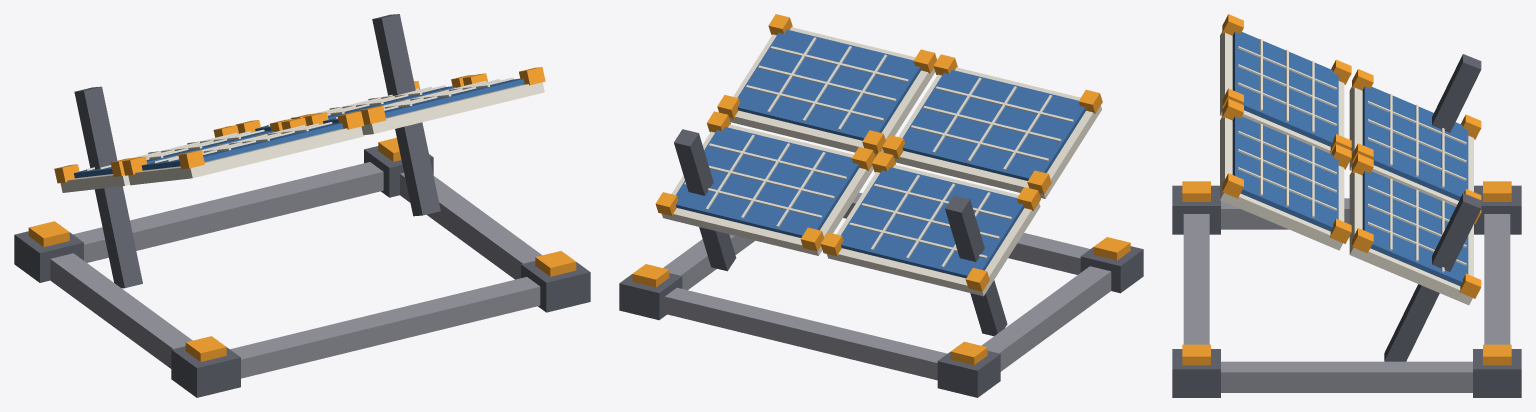
File: model_solar_panel.glb
The picture shows the model from 3 angles, left to right: view 1: azimuth 30°, elevation 25°; view 2: azimuth 150°, elevation 25°; view 3: azimuth 270°, elevation 25°; orthographic projection. The views are drawn at different scales.
Parts seen in each view (by area): view 1: base_cross_front, base_cross_back, base_rail_left, support_left, support_right, base_rail_right, panel_back_1_0, foot_-1.35_1.05, panel_back_1_1, foot_1.35_1.05, foot_-1.35_-1.05, panel_cells_1_0 (+7 smaller); view 2: panel_cells_1_0, panel_cells_1_1, panel_cells_0_1, panel_cells_0_0, base_cross_back, base_rail_left, panel_back_0_0, panel_back_1_0, panel_back_1_1, panel_back_0_1, support_left, support_right (+16 smaller); view 3: base_rail_right, panel_cells_1_1, panel_cells_1_0, panel_cells_0_0, panel_cells_0_1, support_right, base_cross_front, base_cross_back, panel_back_1_1, panel_back_0_1, foot_1.35_-1.05, foot_1.35_1.05 (+30 smaller).
Part boxes in pixels (x1,y1,x2,y2): base_cross_front: (230,277,540,378); base_cross_back: (73,162,383,262); base_rail_left: (50,253,192,368); support_left: (74,86,142,288); support_right: (372,14,440,216); base_rail_right: (400,172,541,279); panel_back_1_0: (128,126,363,185); foot_-1.35_1.05: (171,346,240,397); panel_back_1_1: (361,82,544,135); foot_1.35_1.05: (521,261,590,312); foot_-1.35_-1.05: (14,231,83,282); panel_cells_1_0: (141,123,343,170); panel_cells_1_0: (902,70,1086,180); panel_cells_1_1: (737,29,920,140); panel_cells_0_1: (676,127,859,237); panel_cells_0_0: (841,167,1024,278); base_cross_back: (664,287,946,380); base_rail_left: (981,266,1111,371); panel_back_0_0: (827,164,1040,296); panel_back_1_0: (894,67,1101,198); panel_back_1_1: (729,27,935,156); panel_back_0_1: (662,124,873,255); support_left: (945,195,1007,336); support_right: (674,129,736,271); base_rail_right: (1221,361,1472,392); panel_cells_1_1: (1232,116,1338,231); panel_cells_1_0: (1232,31,1338,146); panel_cells_0_0: (1362,86,1468,200); panel_cells_0_1: (1362,171,1468,286); support_right: (1384,193,1481,361); base_cross_front: (1183,214,1209,344); base_cross_back: (1484,214,1510,344); panel_back_1_1: (1220,116,1344,250); panel_back_0_1: (1349,171,1473,305); foot_1.35_-1.05: (1473,349,1521,397); foot_1.35_1.05: (1172,349,1220,397).
Size of the model in its own units: 3.04 by 1.61 by 2.44.
